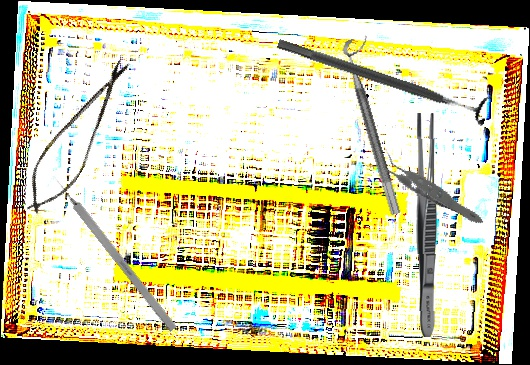Dressing Forceps: (413, 112, 439, 338)
Fixation Ring: (273, 26, 493, 128), (340, 35, 416, 216)
Hook Surgical: (49, 172, 178, 333)
Micro Scissor: (11, 46, 144, 227)
Tissue Forceps: (374, 121, 485, 252)
